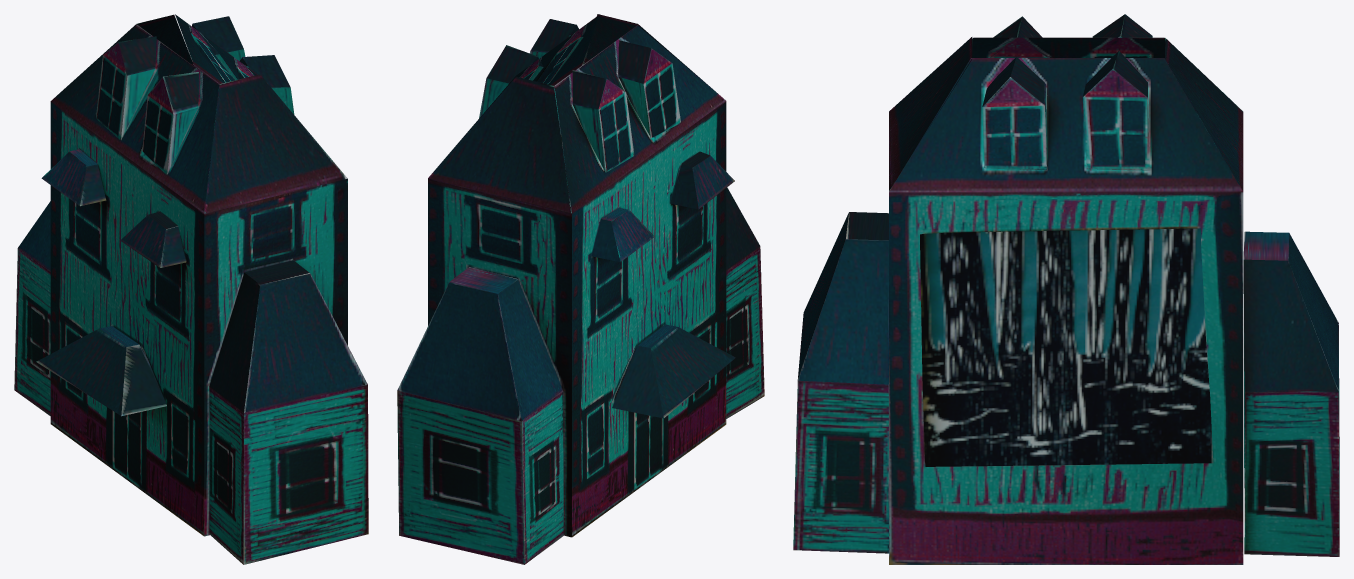
The model's file is casa-bosque-dia-1-0.glb.
The picture shows the model from 3 angles, left to right: view 1: azimuth 30°, elevation 25°; view 2: azimuth 150°, elevation 25°; view 3: azimuth 270°, elevation 25°; orthographic projection. The views are drawn at different scales.
Parts seen in each view (by area): view 1: Cube; view 2: Cube; view 3: Cube.
Boxes of the visible parts, x1,y1,x2,y2 form: Cube: (14,14,368,564); Cube: (397,14,764,564); Cube: (793,14,1339,564).
Size of the model in its own units: 0.3698 by 0.7541 by 0.7711.
1 material, 1 textured.
